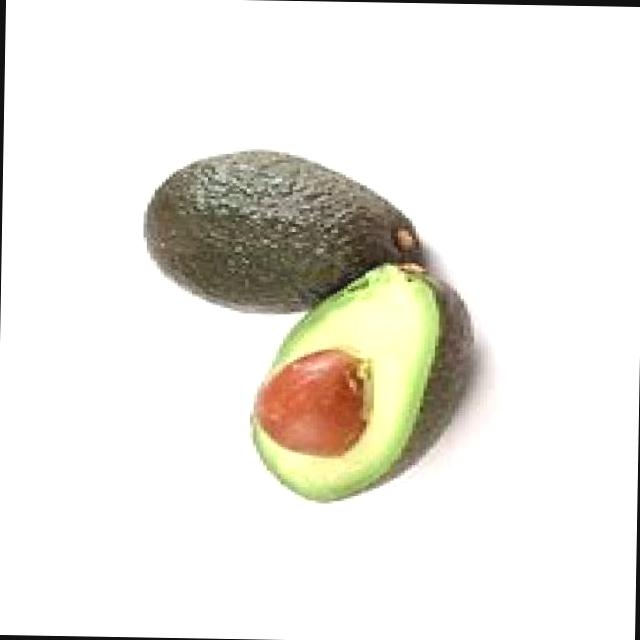avocado: (247, 266, 468, 508), (136, 152, 422, 320)
